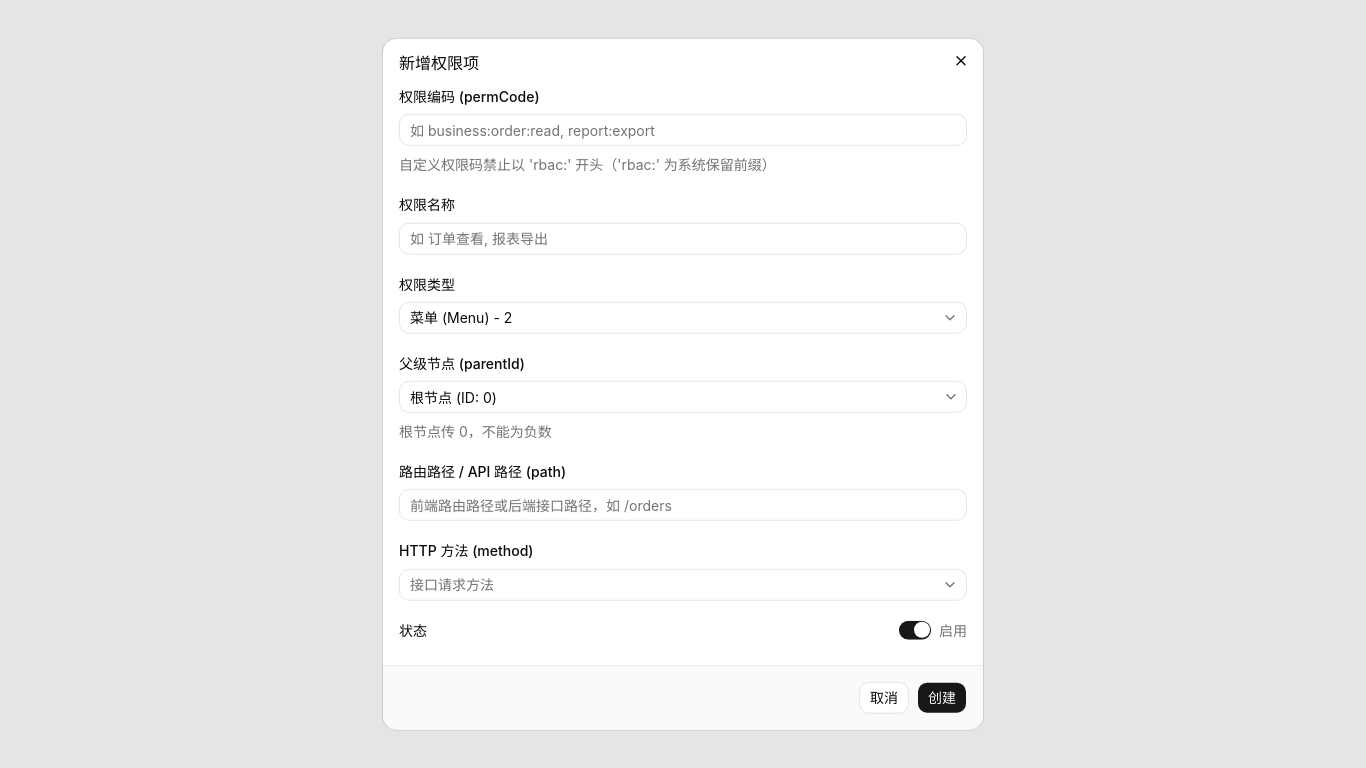
Test case: PermissionFormModal (RBAC 权限项 新增/编辑弹窗) › 表单校验拦截 - 新增权限编码以 rbac: 开头时被拦截并提示系统保留前缀
Step 1. Type "rbac:custom:operation" into the field labelled "权限编码 (permCode)" → (683, 130), box [399,114,967,146]
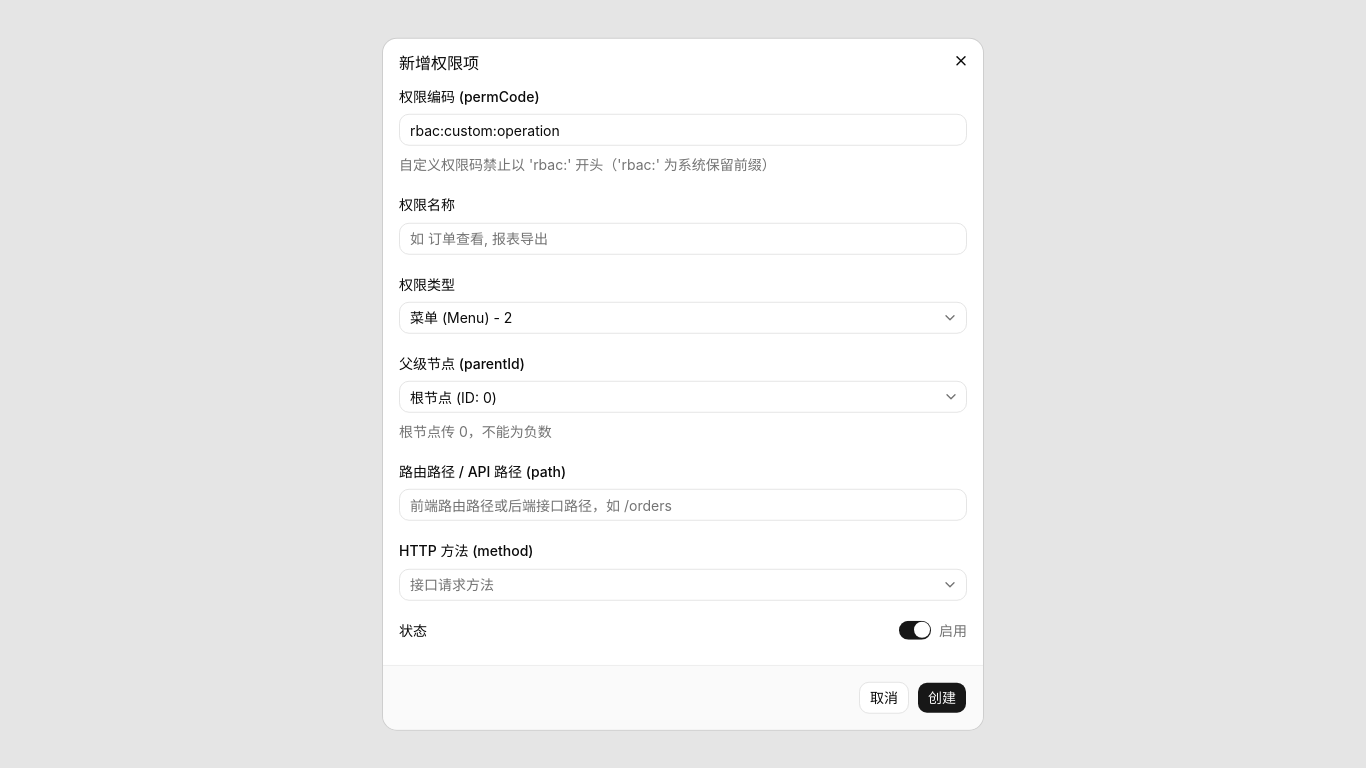
Step 2. Type "系统前缀测试" into the field labelled "权限名称" → (683, 238), box [399,222,967,254]
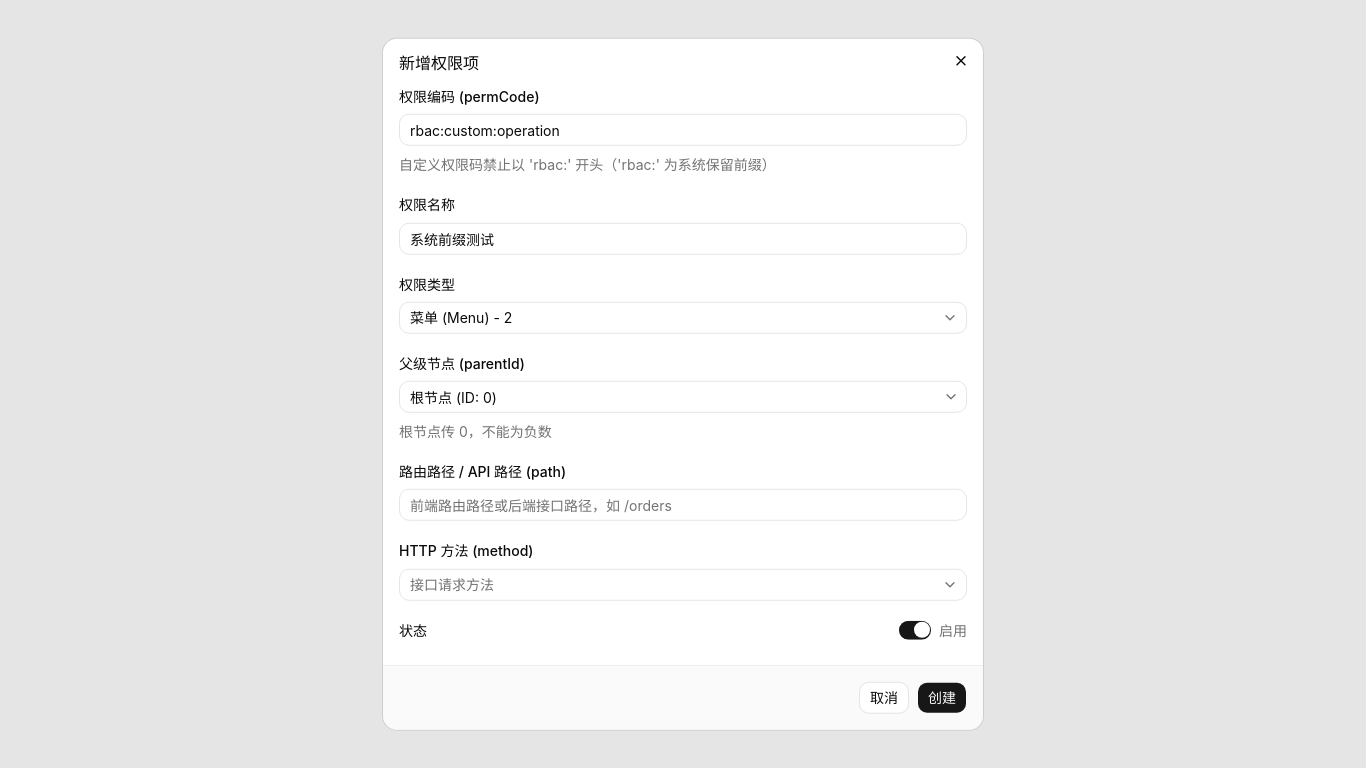
Step 3. Click the button "创建" → (942, 697), box [917,681,967,713]
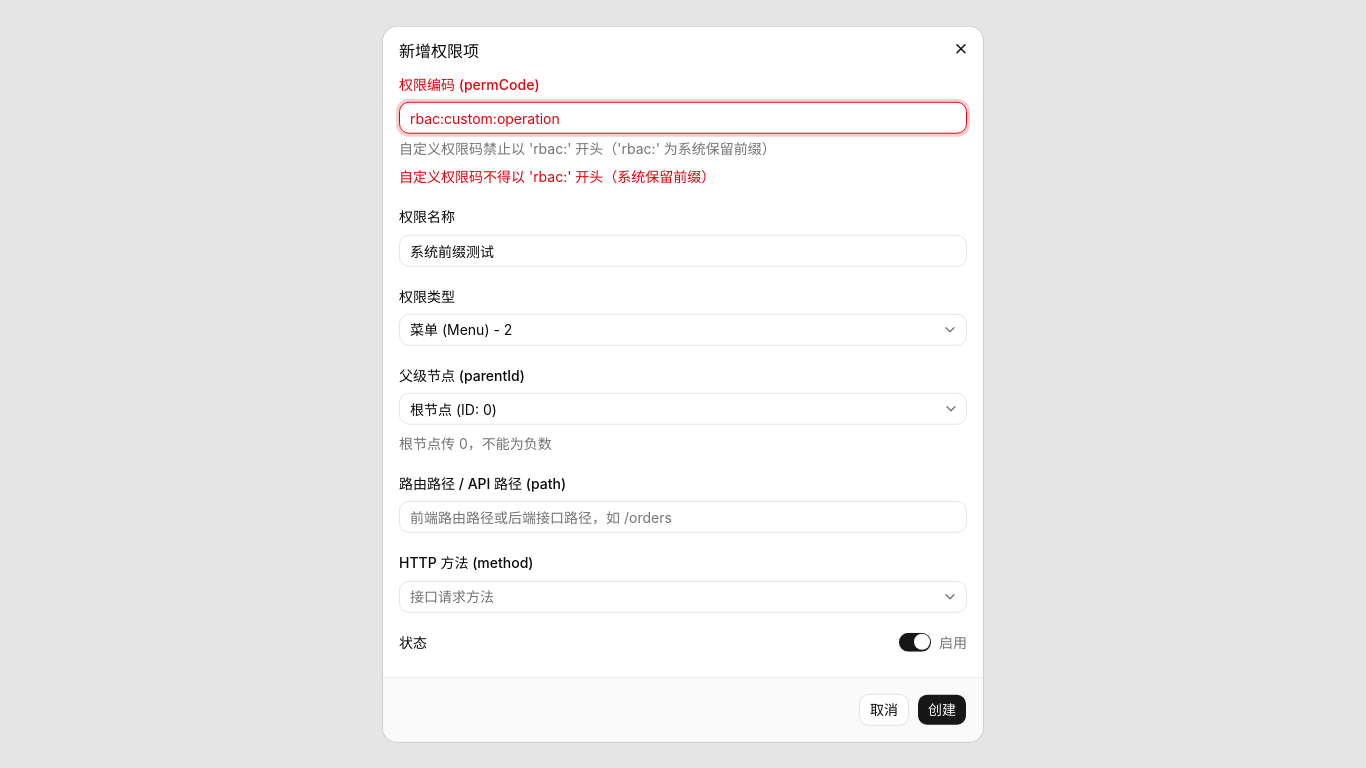
Expected: the text "自定义权限码不得以 'rbac:' 开头（系统保留前缀）" is shown, [399,168,715,185]
